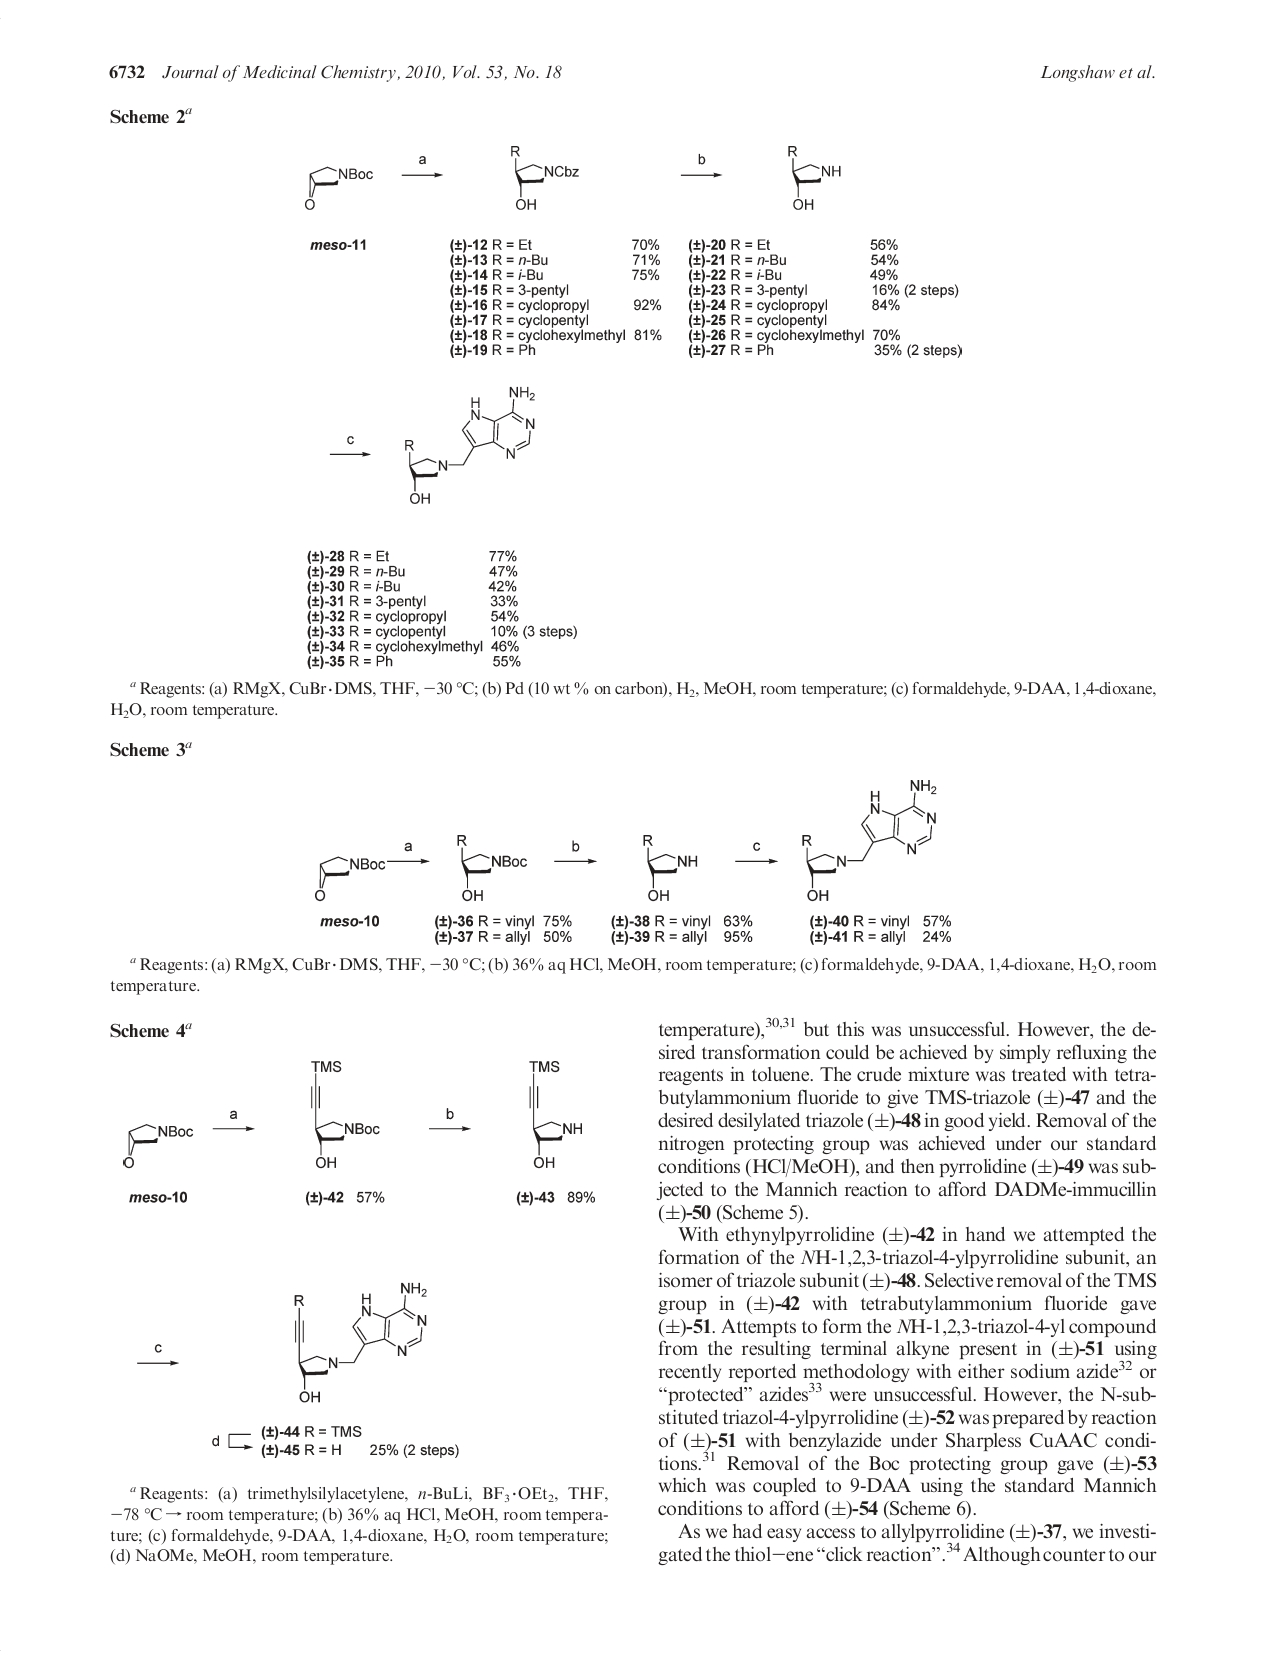exist_molecular: (802, 775, 939, 904), (293, 1279, 430, 1404), (403, 380, 537, 505), (309, 1056, 382, 1169), (527, 1057, 585, 1169), (453, 833, 528, 902), (509, 142, 580, 211), (786, 141, 843, 213), (641, 833, 699, 902), (313, 854, 386, 904), (303, 164, 376, 211), (122, 1121, 195, 1168)
